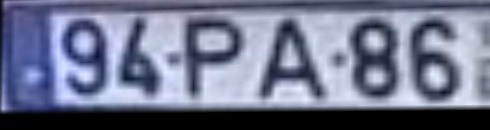4: (117, 18, 166, 101)
6: (409, 15, 466, 108)
8: (348, 15, 405, 105)
9: (58, 17, 114, 101)
A: (252, 19, 335, 105)
P: (183, 17, 252, 104)
